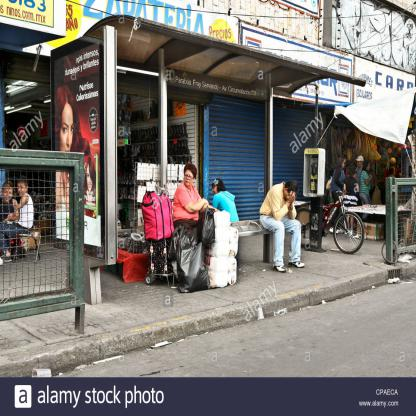Not_Wearing_Mask: (3, 186, 13, 204), (184, 172, 192, 187), (18, 184, 26, 197)
